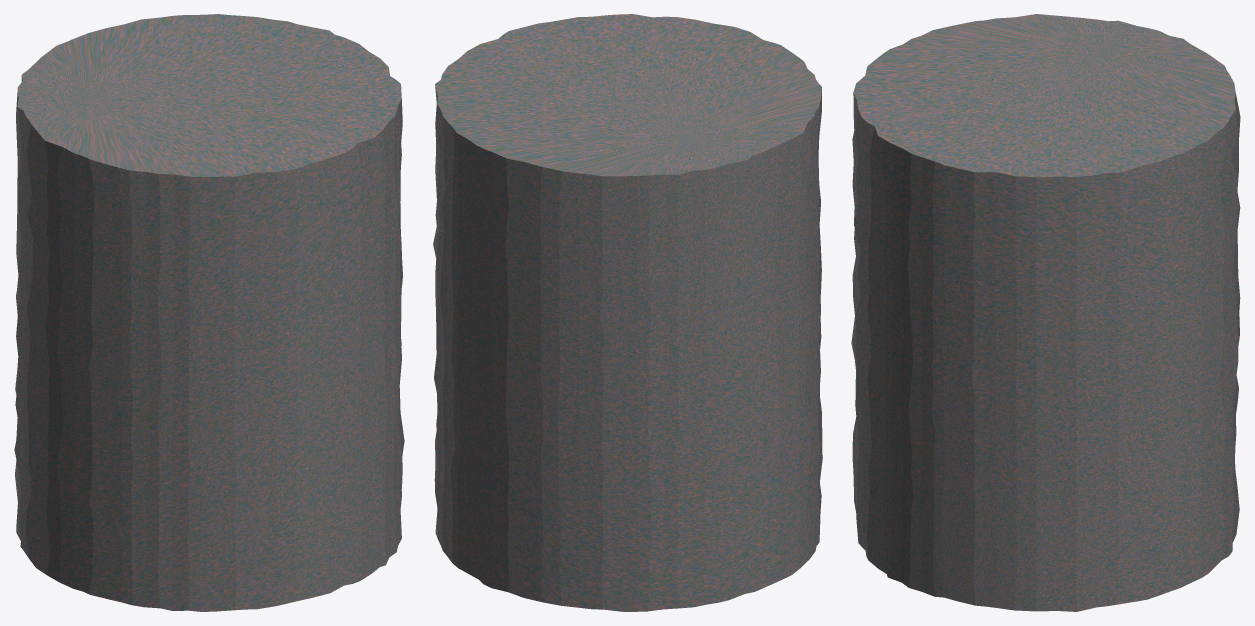
The model's file is barrel_56.dae.
3 views of the same model, side by side, from view 1: azimuth 30°, elevation 25°; view 2: azimuth 150°, elevation 25°; view 3: azimuth 270°, elevation 25° (orthographic).
Parts seen in each view (by area): view 1: Cylinder; view 2: Cylinder; view 3: Cylinder.
Boxes of the visible parts, <box> form: Cylinder: <box>14,14,404,611</box>; Cylinder: <box>433,14,822,611</box>; Cylinder: <box>851,14,1240,611</box>.
Bounding box in the file's own units: 0.8144 × 0.8128 × 1.
1 material, 1 textured.
